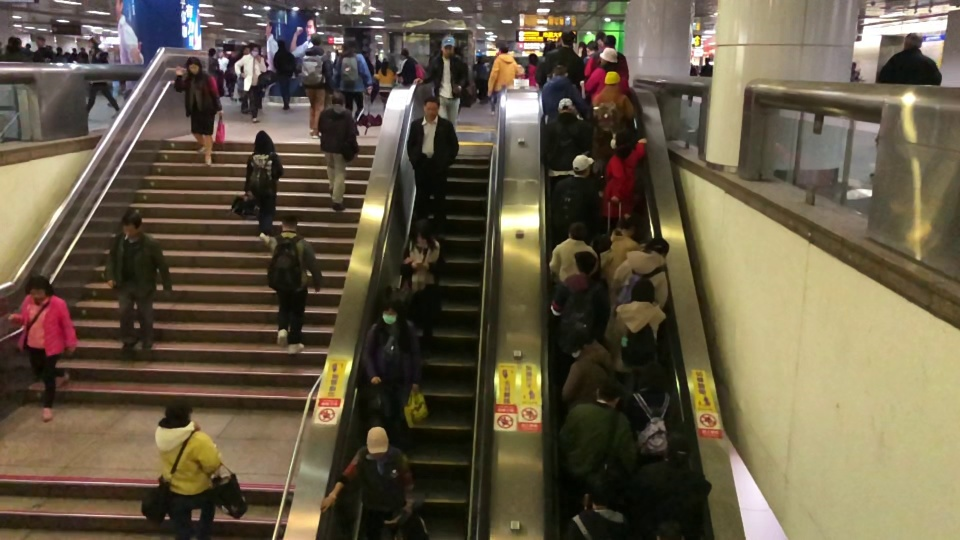person_head: (641, 360, 669, 388), (365, 426, 390, 457), (665, 431, 690, 462), (380, 292, 403, 325), (595, 380, 622, 407), (587, 474, 609, 507), (120, 209, 144, 239), (26, 273, 53, 299), (164, 397, 193, 420), (631, 278, 657, 303), (577, 329, 605, 351), (571, 154, 594, 178), (627, 216, 649, 241), (574, 250, 596, 275), (254, 129, 273, 152), (422, 96, 440, 120), (414, 219, 432, 242), (610, 130, 631, 148), (903, 31, 924, 49), (649, 238, 670, 256), (185, 56, 202, 75), (568, 220, 585, 239), (281, 214, 298, 232), (599, 46, 617, 63), (556, 96, 574, 113), (440, 35, 455, 54), (603, 70, 621, 85), (552, 63, 569, 77), (560, 31, 574, 47), (331, 91, 345, 106), (586, 40, 598, 56), (603, 35, 616, 48), (344, 40, 357, 52), (311, 31, 321, 46), (527, 52, 538, 65), (544, 40, 555, 53), (87, 37, 98, 49), (7, 36, 17, 49), (250, 45, 261, 56), (35, 36, 45, 47), (240, 45, 250, 55), (498, 45, 508, 55), (400, 48, 409, 59), (277, 38, 284, 50), (207, 46, 215, 55), (382, 59, 388, 69), (703, 57, 710, 64), (852, 62, 855, 69)
person_vbox: (320, 425, 416, 540), (8, 274, 79, 423), (103, 208, 173, 353), (154, 396, 223, 540), (558, 379, 636, 487), (635, 430, 710, 540), (361, 291, 421, 425), (267, 213, 323, 355), (405, 96, 460, 230), (401, 217, 444, 355), (614, 277, 667, 378), (626, 359, 680, 458), (175, 56, 224, 165), (317, 90, 360, 212), (243, 130, 285, 247), (414, 36, 469, 125), (601, 129, 649, 222), (610, 237, 669, 311), (552, 154, 601, 238), (548, 250, 605, 322), (559, 329, 613, 405), (544, 97, 592, 179), (599, 216, 651, 288), (877, 32, 942, 88), (568, 474, 623, 540), (592, 71, 635, 151), (302, 32, 333, 141), (548, 219, 599, 283), (85, 36, 120, 117), (336, 39, 373, 113), (234, 45, 268, 122), (583, 47, 629, 101), (542, 63, 584, 117), (584, 35, 629, 80), (273, 38, 298, 112), (487, 43, 519, 97), (549, 32, 584, 79), (396, 47, 422, 85), (373, 58, 395, 99), (2, 36, 32, 62), (34, 35, 54, 64), (525, 52, 539, 87), (700, 57, 713, 77), (209, 48, 218, 74), (850, 64, 861, 82)
